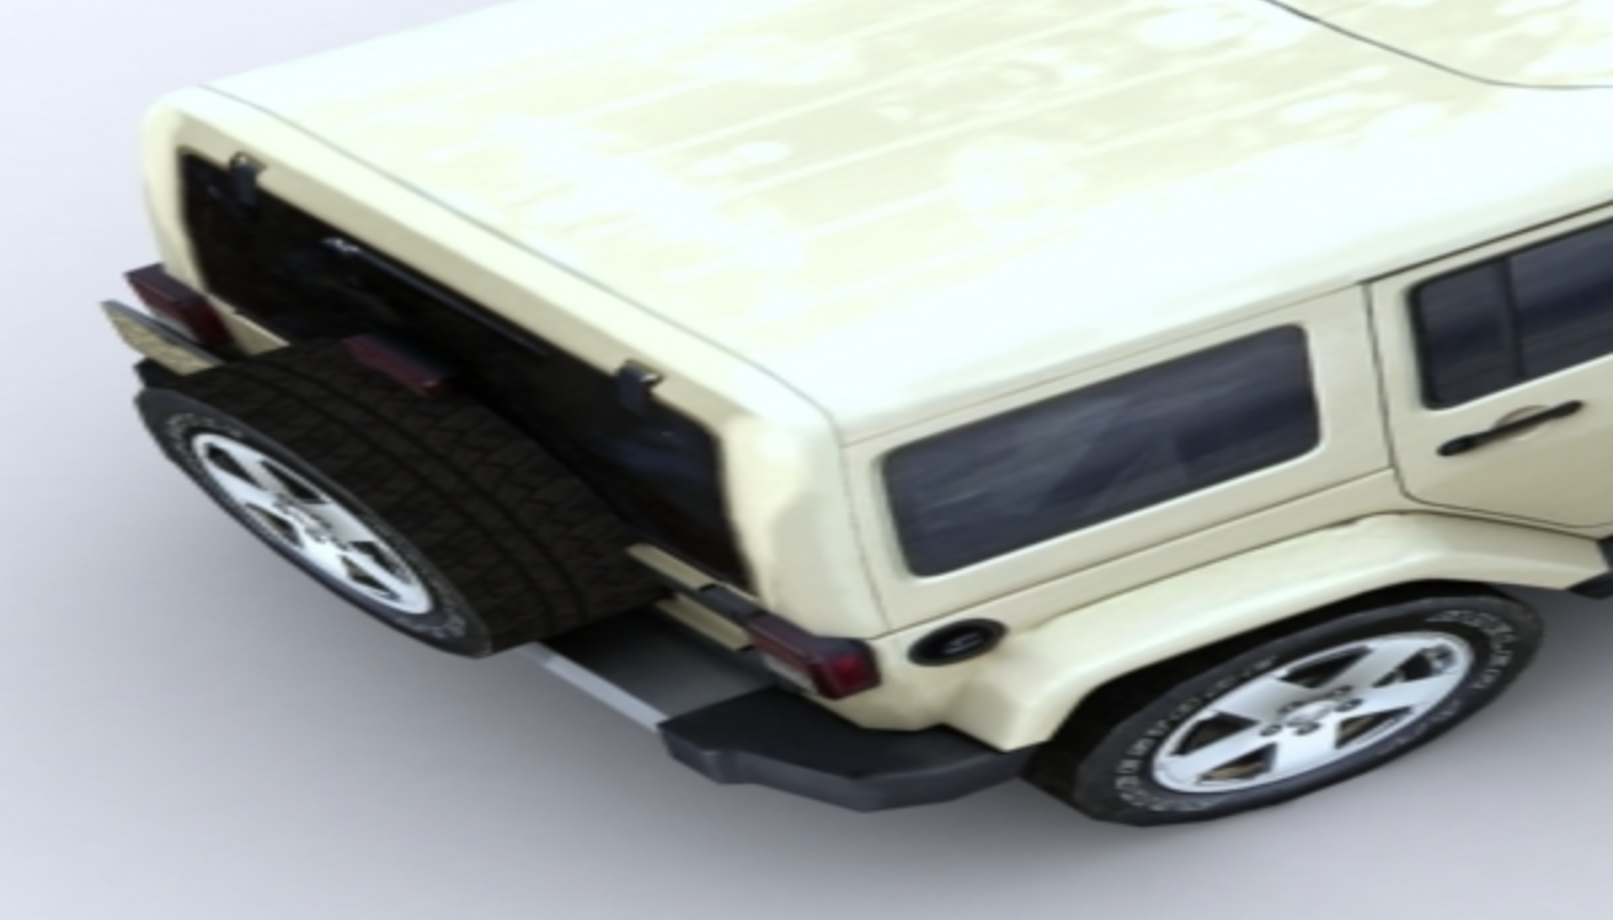hatch: (900, 609, 1014, 679)
